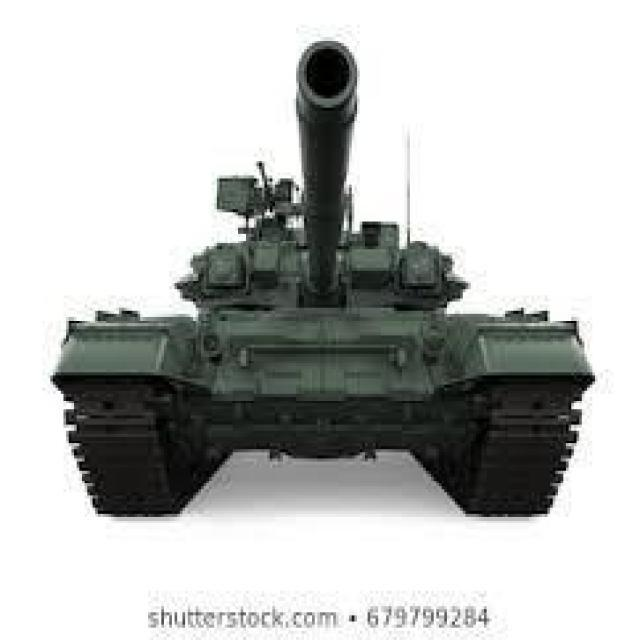MIL_MBT: (44, 34, 596, 585)
